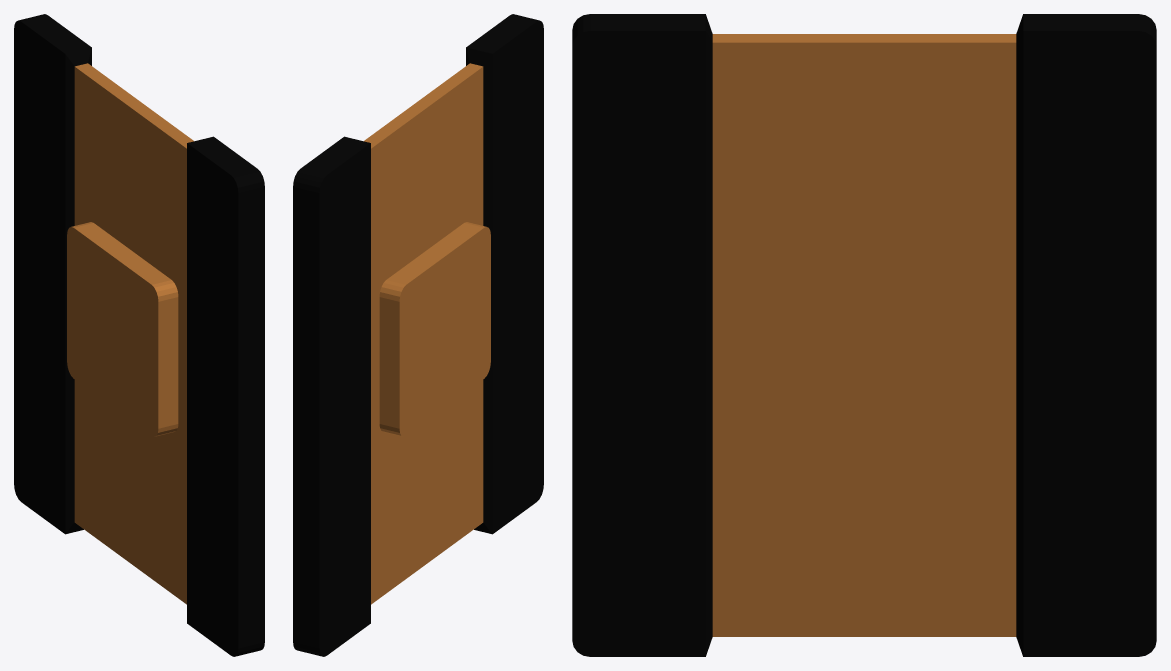
The model's file is levelution.glb.
The picture shows the model from 3 angles, left to right: view 1: azimuth 30°, elevation 25°; view 2: azimuth 150°, elevation 25°; view 3: azimuth 270°, elevation 25°; orthographic projection. The views are drawn at different scales.
Visible parts, largest first — view 1: Cube; view 2: Cube; view 3: Cube.
Part boxes in pixels (left/top/right/bottom): Cube: left=14, top=14, right=264, bottom=656; Cube: left=293, top=14, right=543, bottom=656; Cube: left=572, top=14, right=1156, bottom=656.
Size of the model in its own units: 0.206 by 2.36 by 2.
